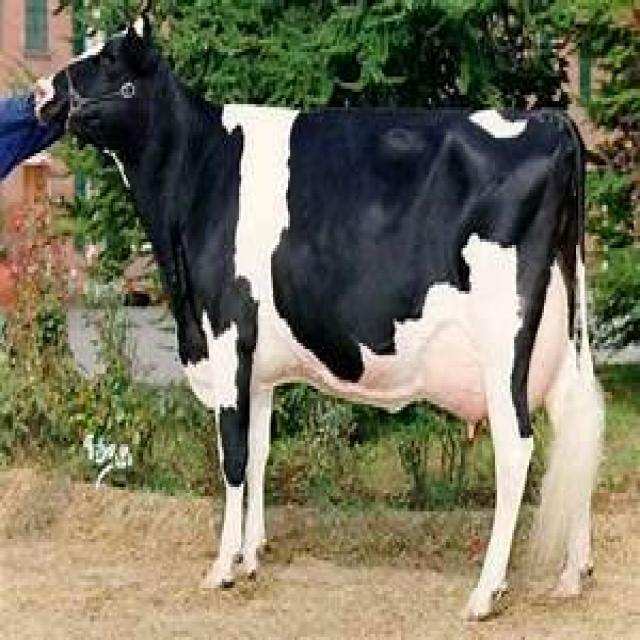cow: (39, 27, 602, 616)
